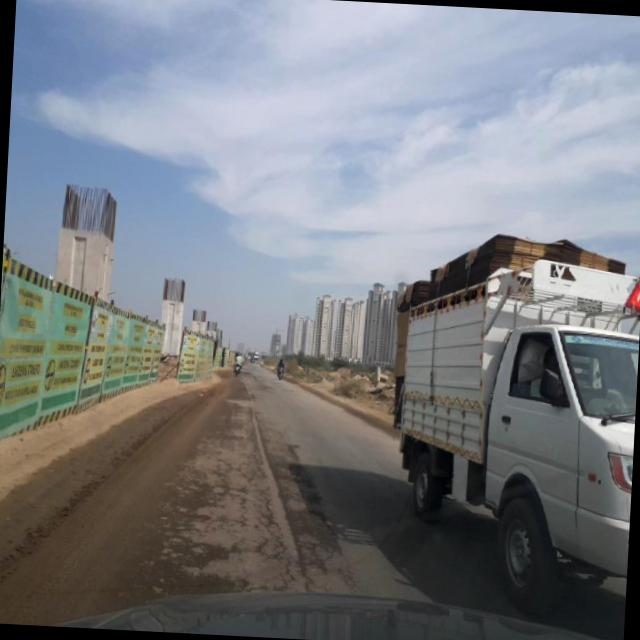crack: (144, 372, 378, 590)
